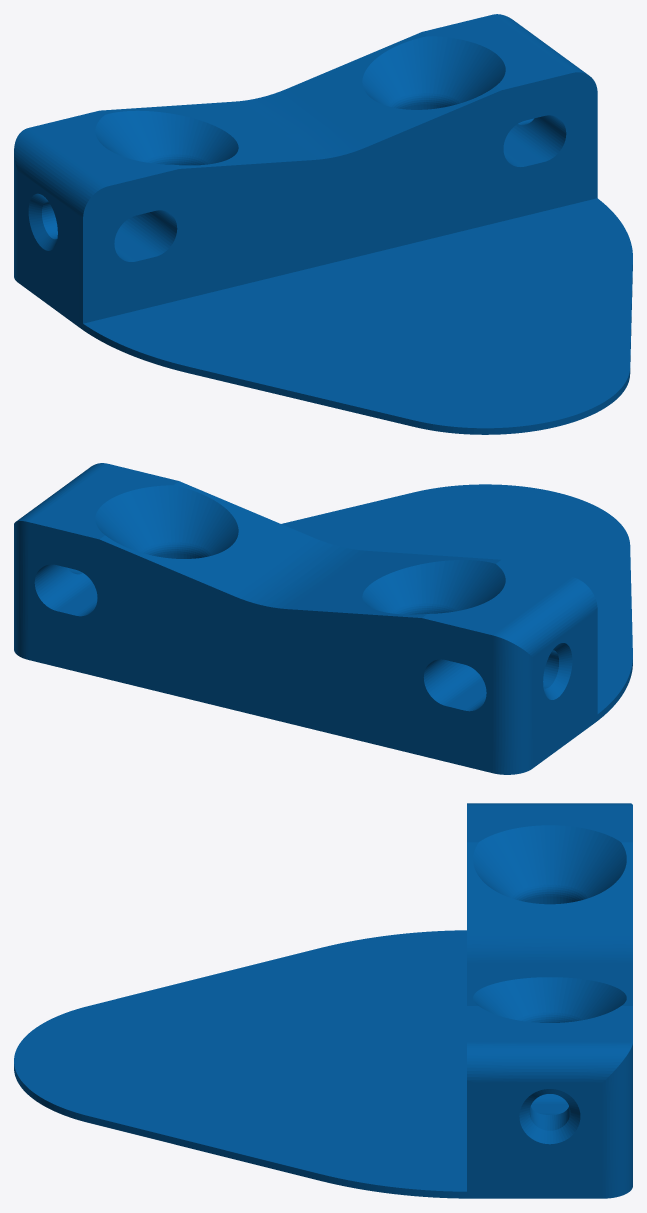
File: Ender_Z-Axis_Motor_Mount-33.glb
The picture shows the model from 3 angles, top to bottom: view 1: azimuth 30°, elevation 25°; view 2: azimuth 150°, elevation 25°; view 3: azimuth 270°, elevation 25°; orthographic projection. The views are drawn at different scales.
Bounding box in the file's own units: 41 × 10.5 × 41.
